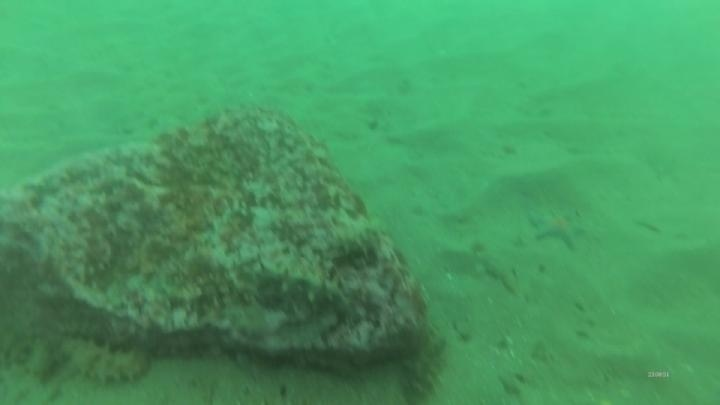holothurian: (250, 260, 359, 321), (51, 333, 153, 389), (395, 320, 449, 404), (322, 211, 390, 265), (4, 340, 51, 405), (1, 366, 63, 404)
starfish: (526, 204, 588, 252)
